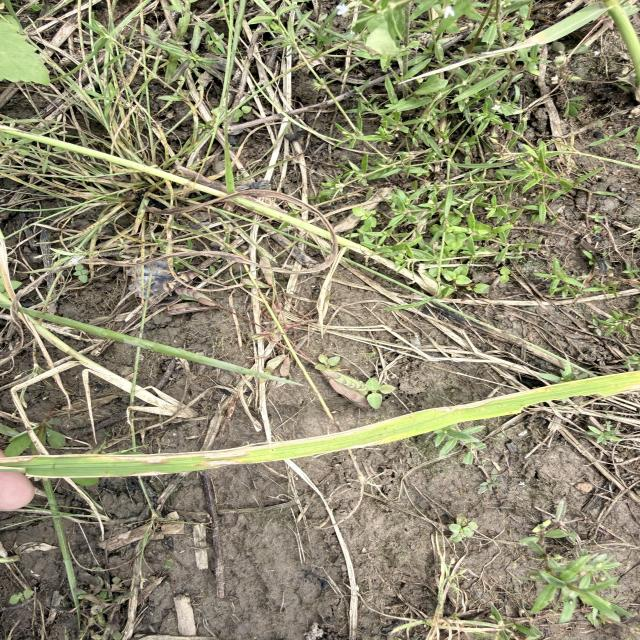Chay bia la: (0, 419, 390, 465), (429, 387, 547, 411), (29, 470, 202, 479), (196, 460, 245, 469), (0, 466, 29, 470)
